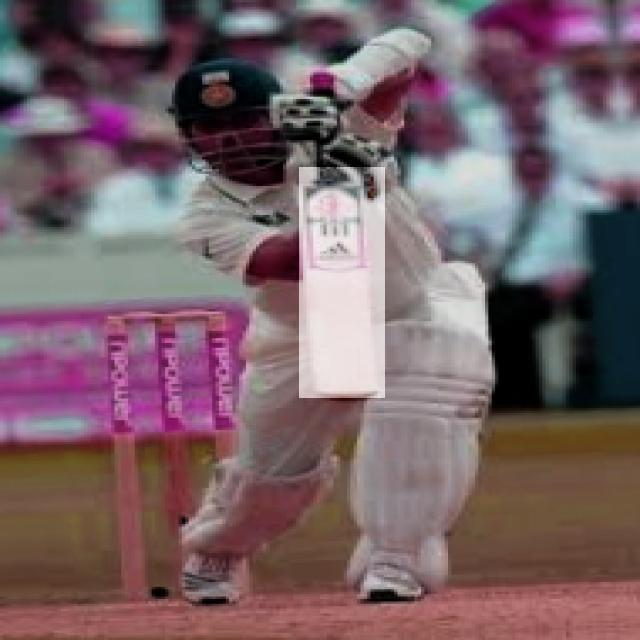bat: (294, 168, 387, 396)
toe: (311, 390, 378, 409)
